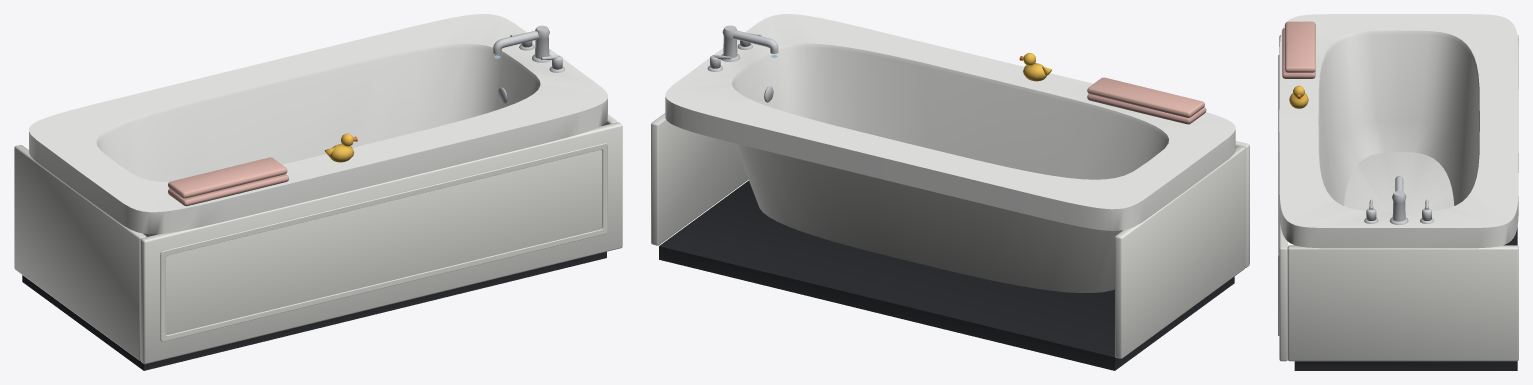
File: bathtub.glb
3 renders of one model, left to right at view 1: azimuth 30°, elevation 25°; view 2: azimuth 150°, elevation 25°; view 3: azimuth 270°, elevation 25°, orthographic. The views are drawn at different scales.
Parts seen in each view (by area): view 1: body; view 2: body; view 3: body.
Boxes of the visible parts, left/top/right/bottom form: body: left=14, top=14, right=622, bottom=370; body: left=651, top=14, right=1249, bottom=370; body: left=1278, top=14, right=1518, bottom=370.
Size of the model in its own units: 1.82 by 0.69 by 0.865.
